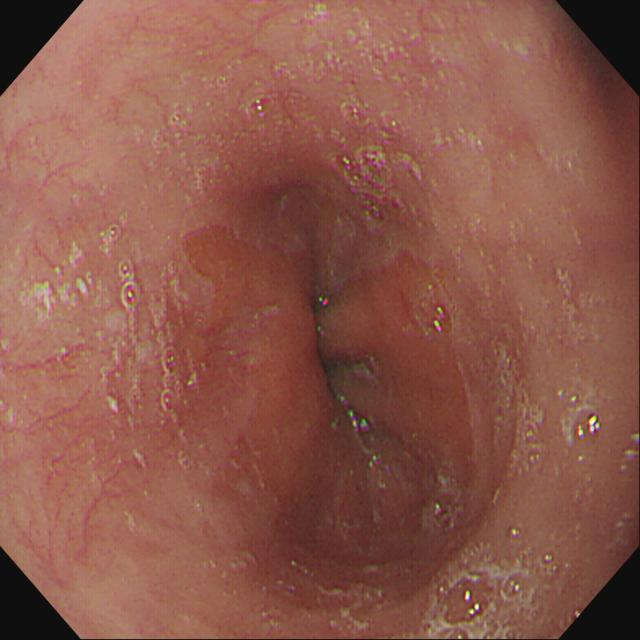I: (171, 165, 498, 594)
T: (101, 219, 187, 437), (422, 528, 558, 640), (334, 98, 424, 231), (15, 240, 97, 327), (555, 263, 606, 349), (509, 381, 548, 485), (561, 392, 603, 451), (239, 90, 283, 122)
